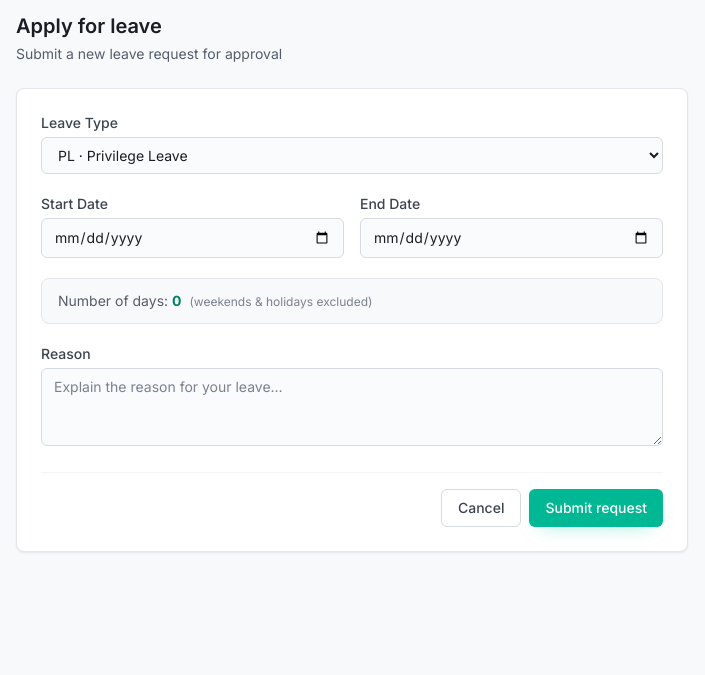
Test: ApplyLeavePage - HPE Holiday to Use › reveals the field with a placeholder and lists available entitlements
Select "CO · Compensatory Off" in the dropdown labelled "Leave Type". click: (352, 156)
box: 41,137 -> 663,174
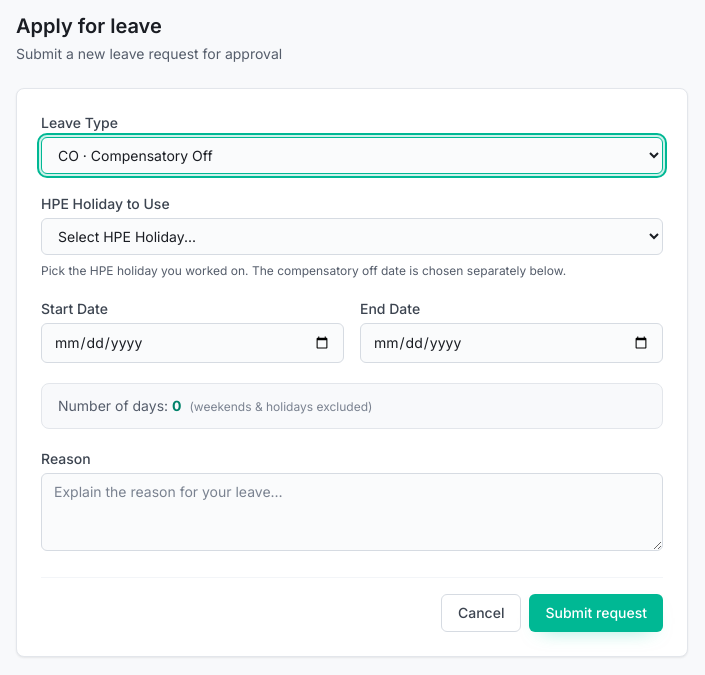
Expected: the dropdown labelled "HPE Holiday to Use" is shown, 41,218 -> 663,255
